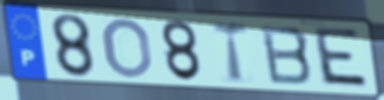8: (50, 12, 96, 79), (159, 18, 203, 83)
B: (258, 23, 315, 87)
E: (313, 25, 372, 91)
O: (101, 16, 155, 80)
T: (210, 19, 251, 85)
